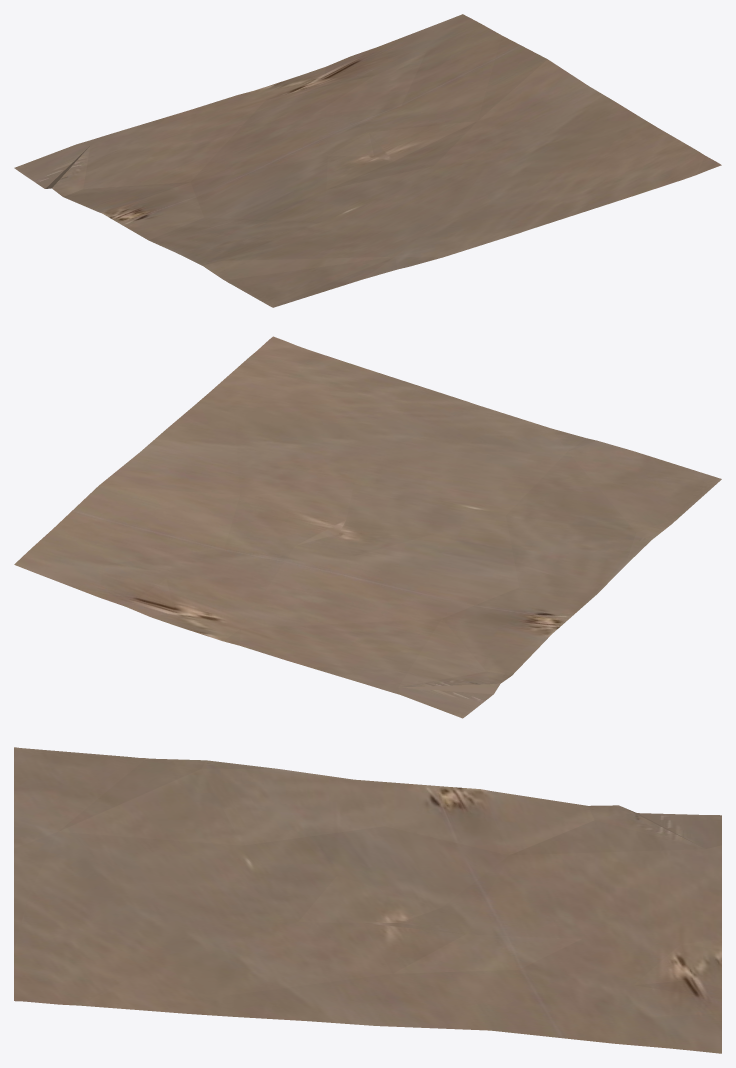
3 renders of one model, top to bottom at view 1: azimuth 30°, elevation 25°; view 2: azimuth 150°, elevation 25°; view 3: azimuth 270°, elevation 25°, orthographic. The views are drawn at different scales.
Bounding box in the file's own units: 2.09 × 0.3688 × 2.09.
Materials: 3 (3 with a texture image).
